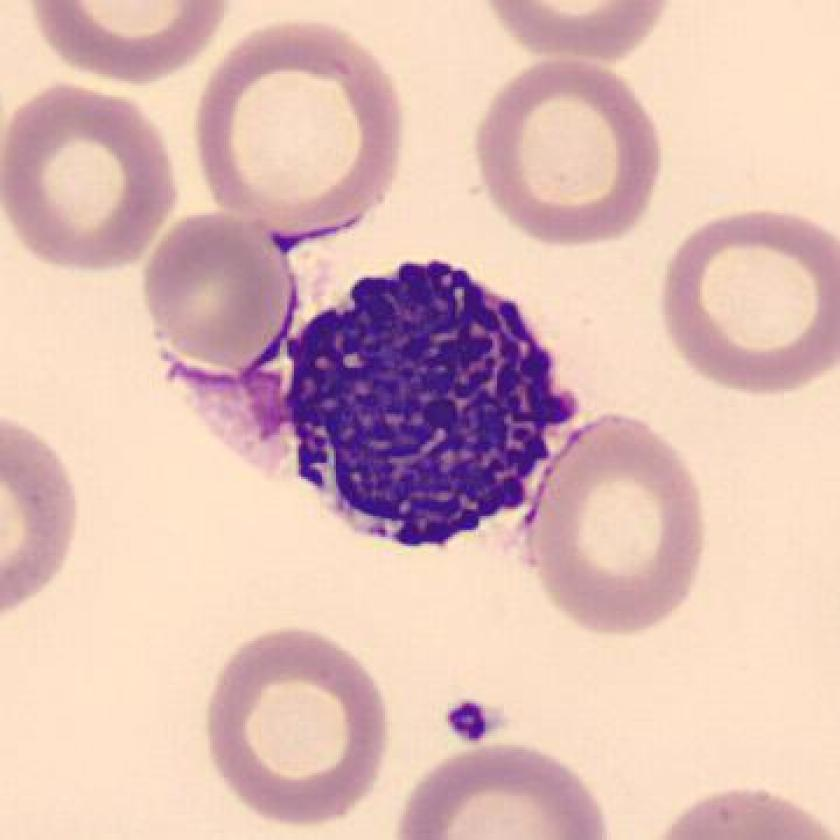basophil: (274, 253, 568, 552)
